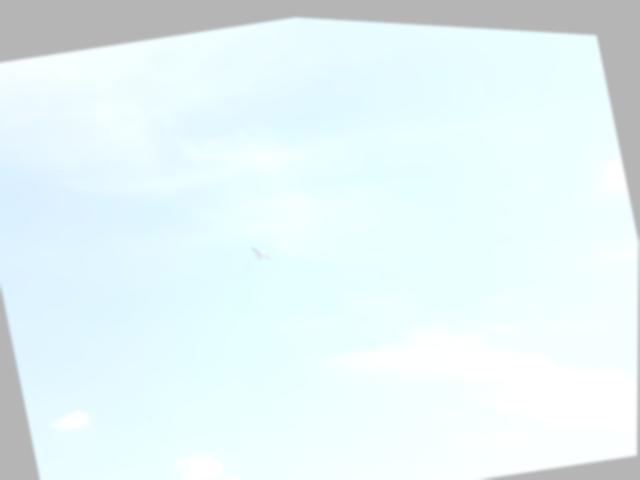plane: (250, 239, 272, 261)
